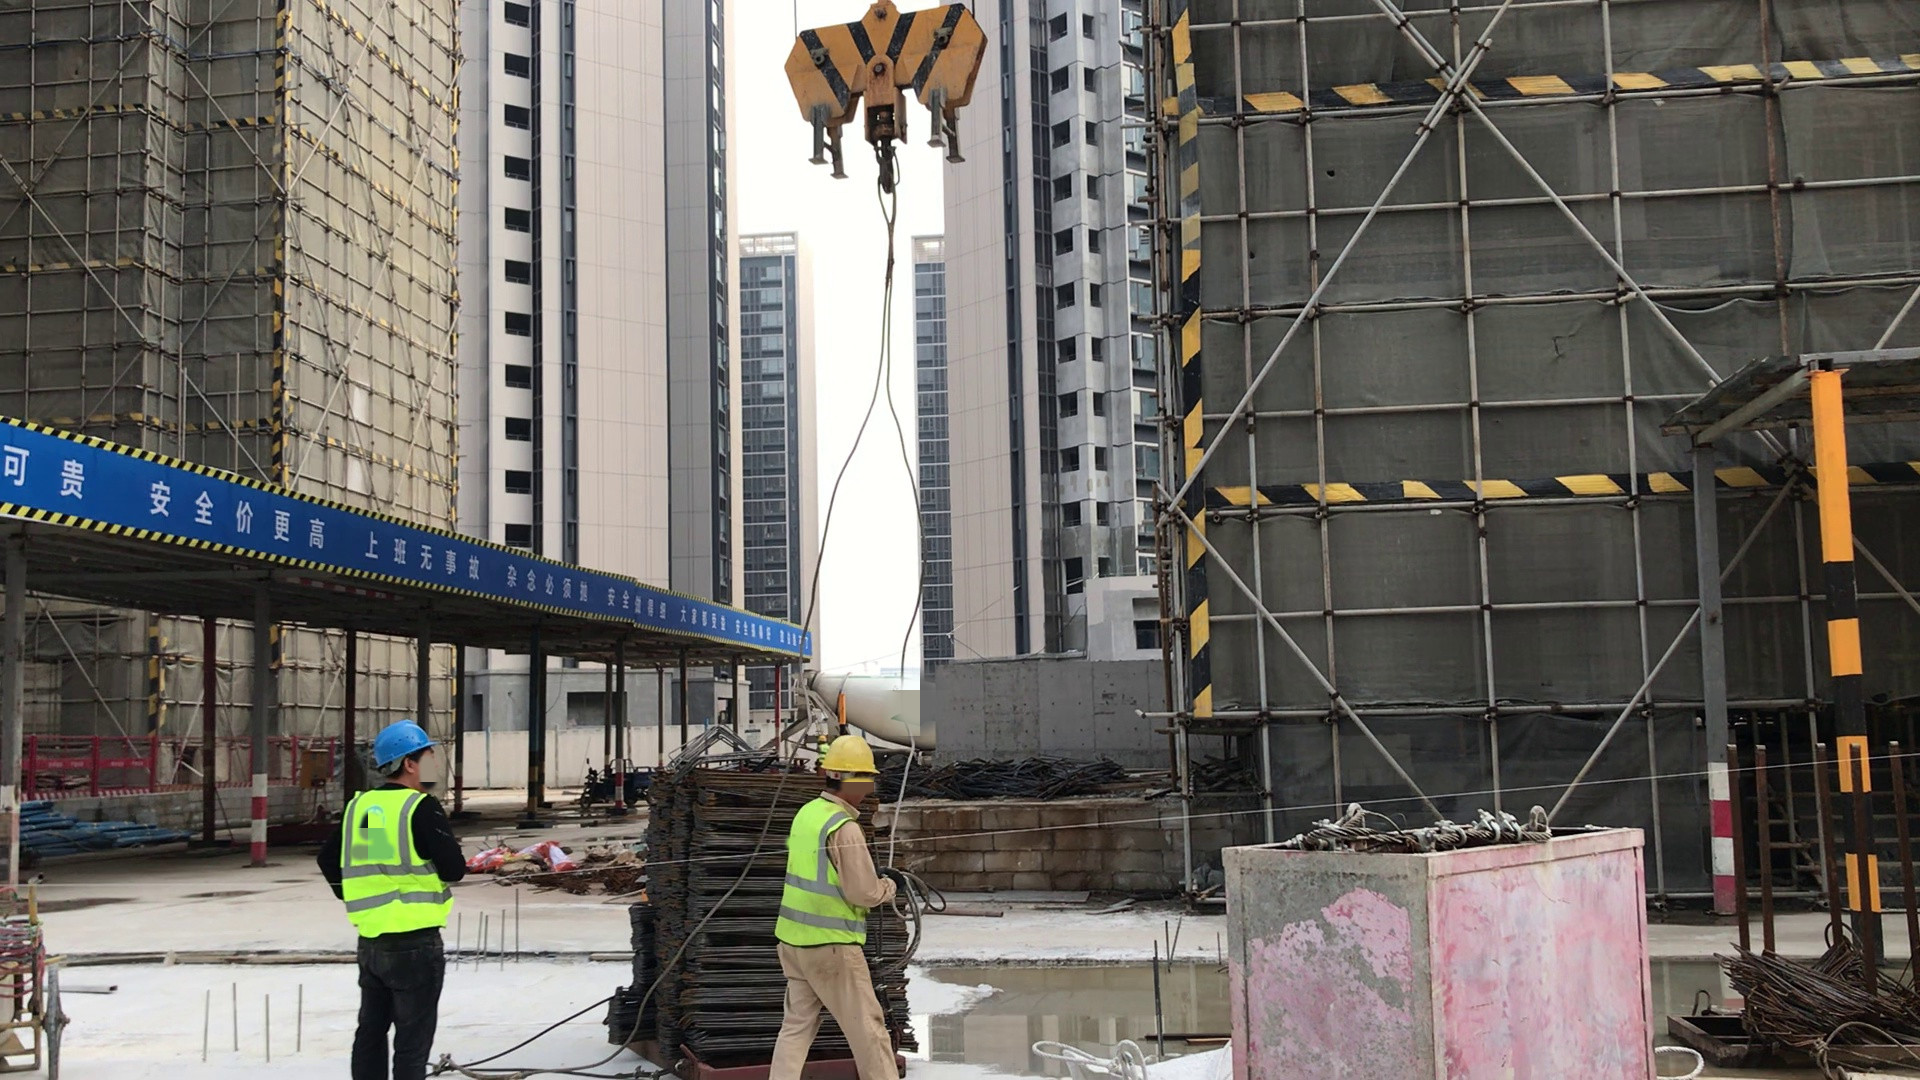ebox: (299, 747, 330, 788)
fence: (1, 735, 340, 807)
helmet: (826, 735, 883, 786), (815, 733, 827, 744)
hook: (788, 1, 989, 233)
person: (321, 720, 463, 1080), (779, 733, 909, 1080), (814, 734, 829, 763)
slogan: (1, 423, 331, 559), (350, 521, 599, 606), (604, 577, 818, 657)
vest: (339, 787, 455, 934), (780, 795, 871, 948)
